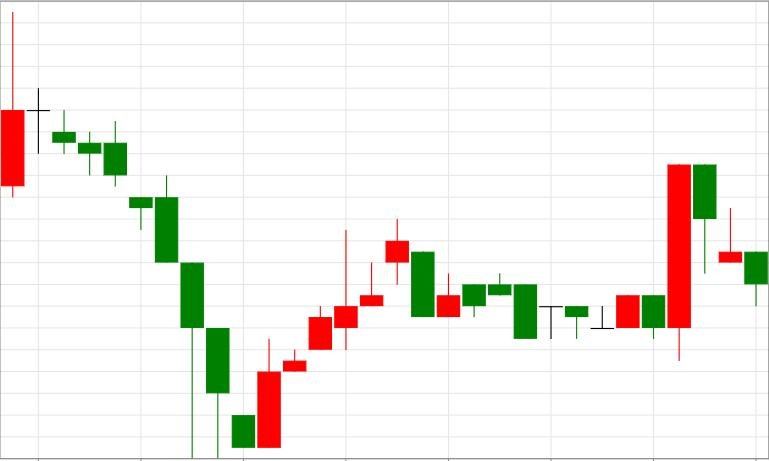bullish_engulfing_rise: (51, 110, 281, 459)
